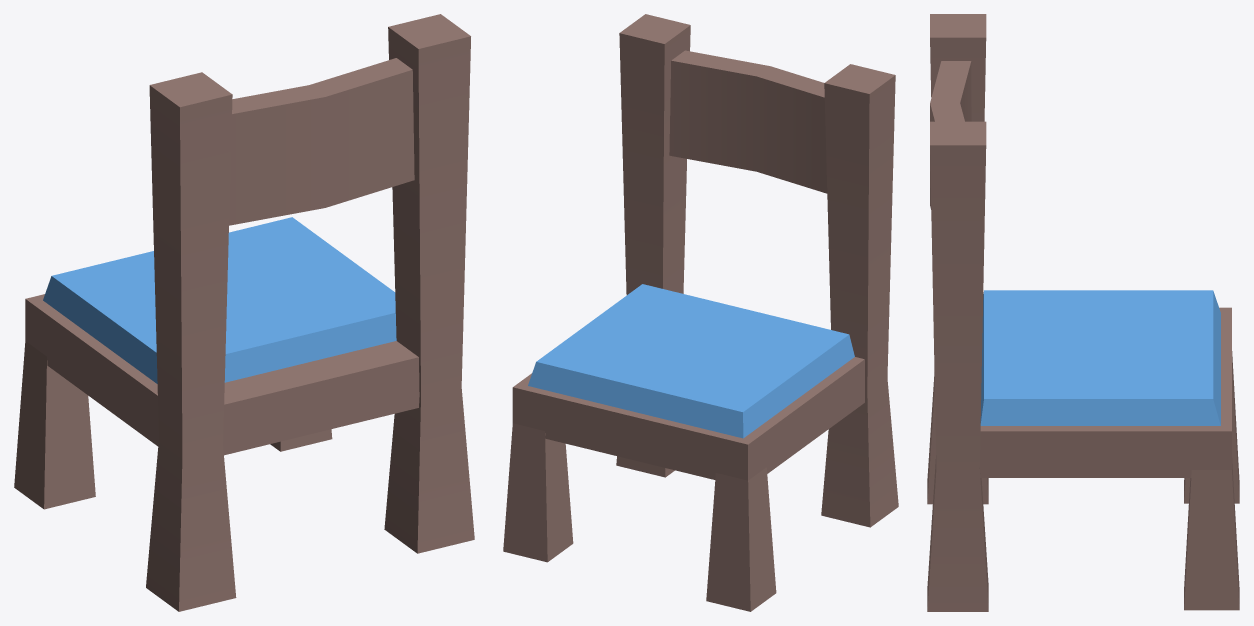
Rendered from ChairA1_deco_geo.fbx.
3 views of the same model, side by side, from view 1: azimuth 30°, elevation 25°; view 2: azimuth 150°, elevation 25°; view 3: azimuth 270°, elevation 25° (orthographic). The views are drawn at different scales.
Parts seen in each view (by area): view 1: ChairA1_deco_geo; view 2: ChairA1_deco_geo; view 3: ChairA1_deco_geo.
Part boxes in pixels (x1,y1,x2,y2): ChairA1_deco_geo: (14, 14, 474, 611); ChairA1_deco_geo: (503, 14, 898, 611); ChairA1_deco_geo: (927, 14, 1239, 611).
Size of the model in its own units: 0.537 by 0.53 by 0.8725.
